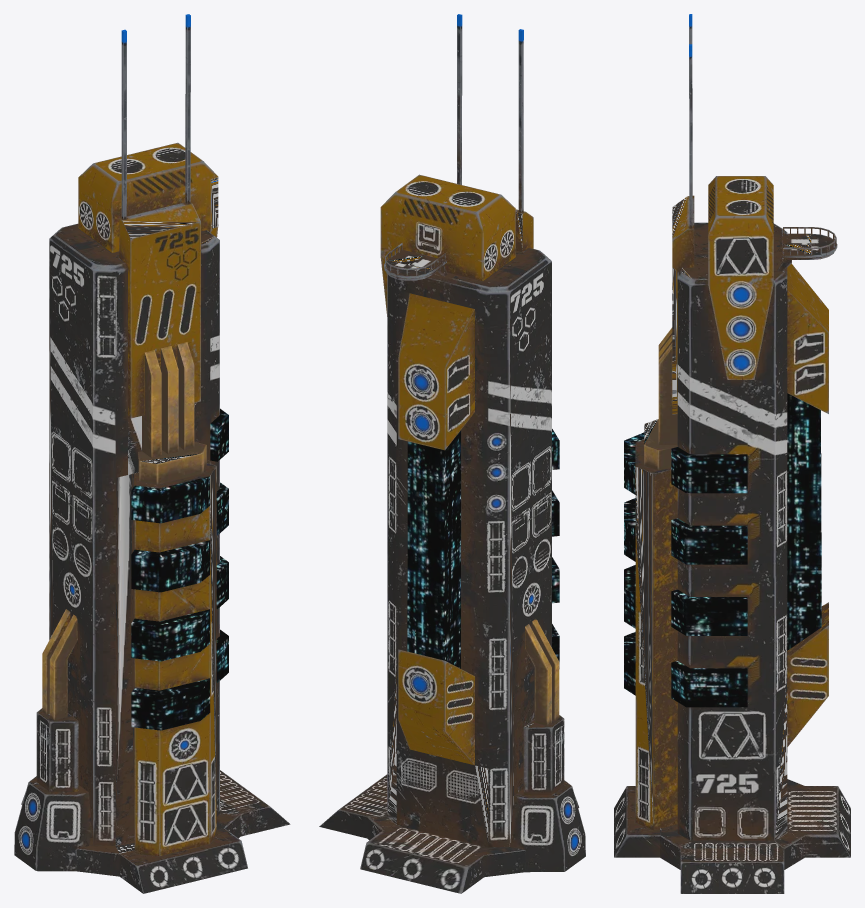
Rendered from building.glb.
3 views of the same model, side by side, from view 1: azimuth 30°, elevation 25°; view 2: azimuth 150°, elevation 25°; view 3: azimuth 270°, elevation 25° (orthographic). The views are drawn at different scales.
Visible parts, largest first — view 1: SM_building5; view 2: SM_building5; view 3: SM_building5.
Part boxes in pixels (left/top/right/bottom): SM_building5: left=14, top=14, right=290, bottom=893; SM_building5: left=319, top=14, right=585, bottom=893; SM_building5: left=614, top=14, right=850, bottom=893.
Size of the model in its own units: 840 by 2785 by 745.
1 material, 1 textured.
